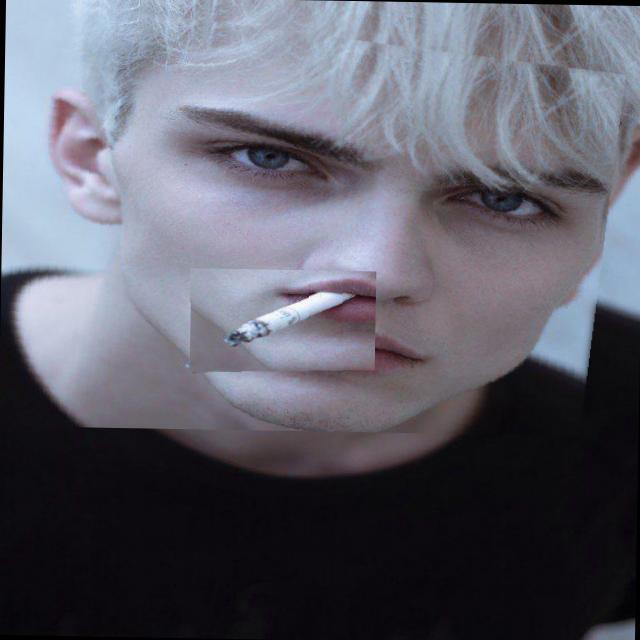cigarette: (188, 268, 376, 375)
